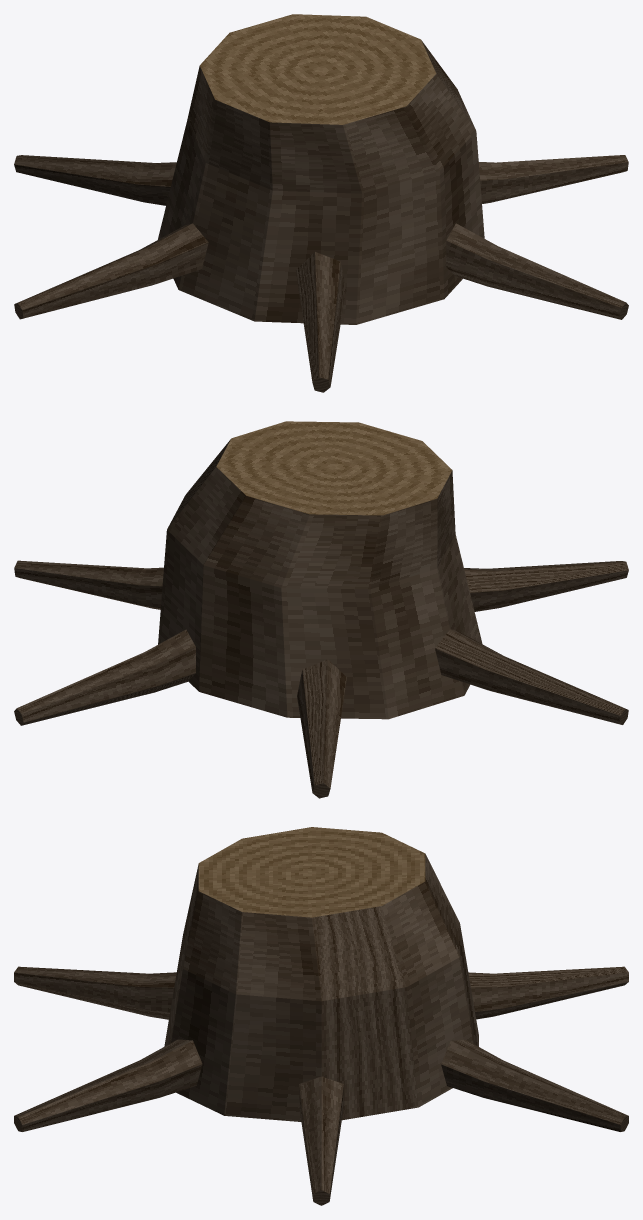
File: env_trees_13_stump_rooted.glb
The picture shows the model from 3 angles, top to bottom: view 1: azimuth 30°, elevation 25°; view 2: azimuth 150°, elevation 25°; view 3: azimuth 270°, elevation 25°; orthographic projection.
Visible parts, largest first — view 1: solid; view 2: solid; view 3: solid.
Part boxes in pixels (x1,y1,x2,y2): solid: [14, 14, 628, 392]; solid: [14, 421, 628, 798]; solid: [14, 827, 628, 1205].
Bounding box in the file's own units: 1.49 × 0.469 × 1.3.
1 material, 1 textured.
